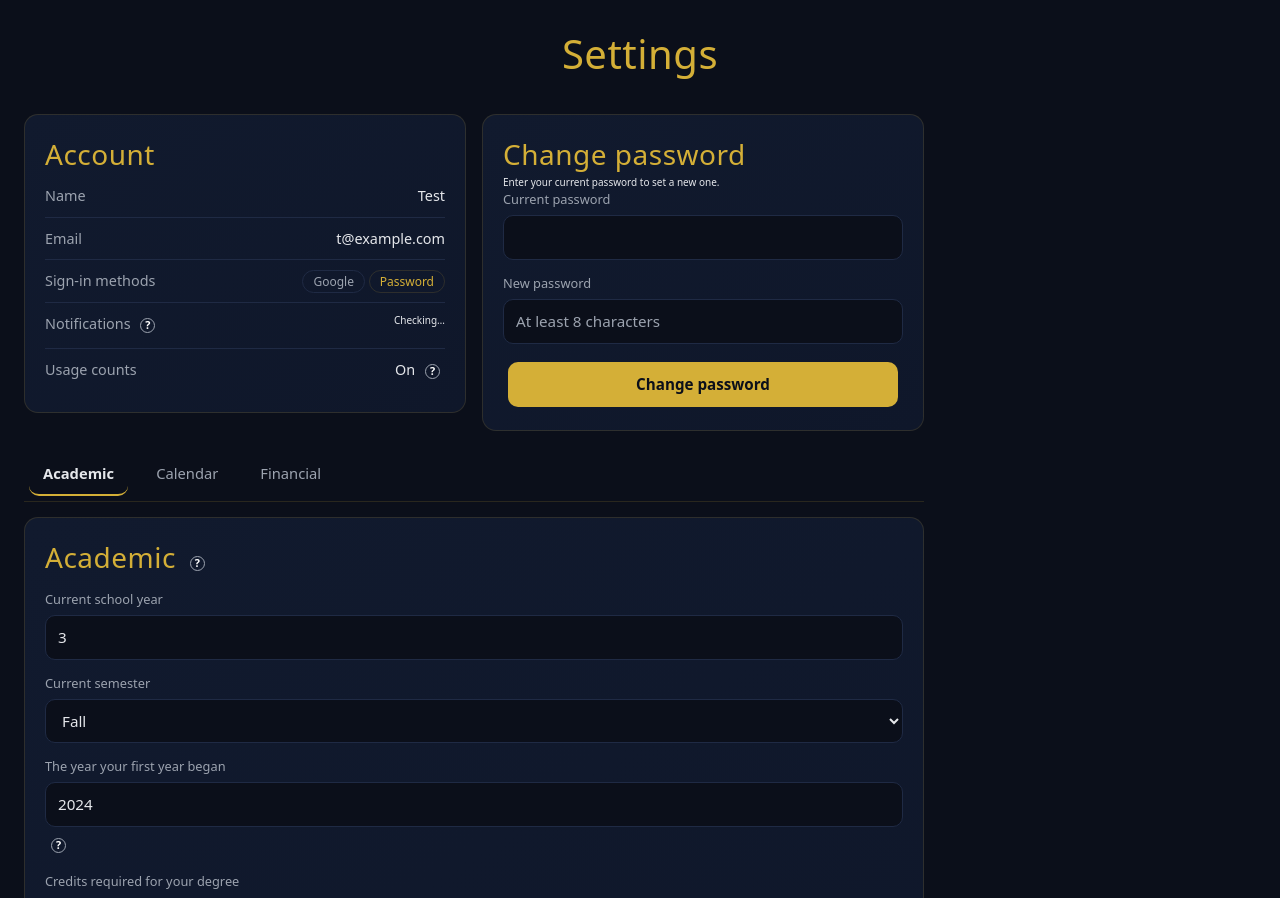
Test: where cash tips go › saves on change and says how many held tips it filed
This screenshot has width=1280, height=898.
Click the tab "Financial" at (291, 474), box [246,452,335,496]
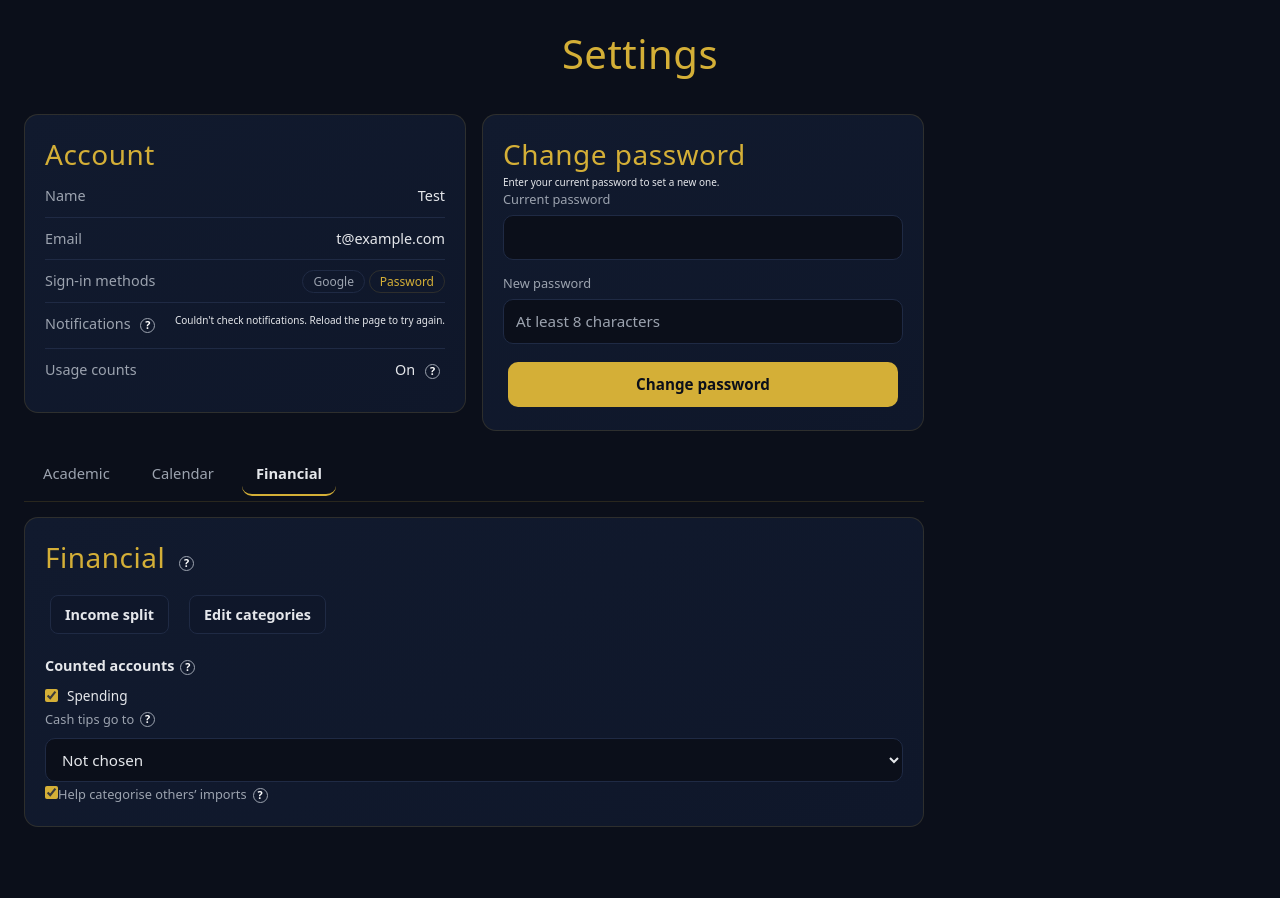
Select "Spending" in the dropdown labelled "Cash tips go to" at (474, 760), box [45,738,903,782]
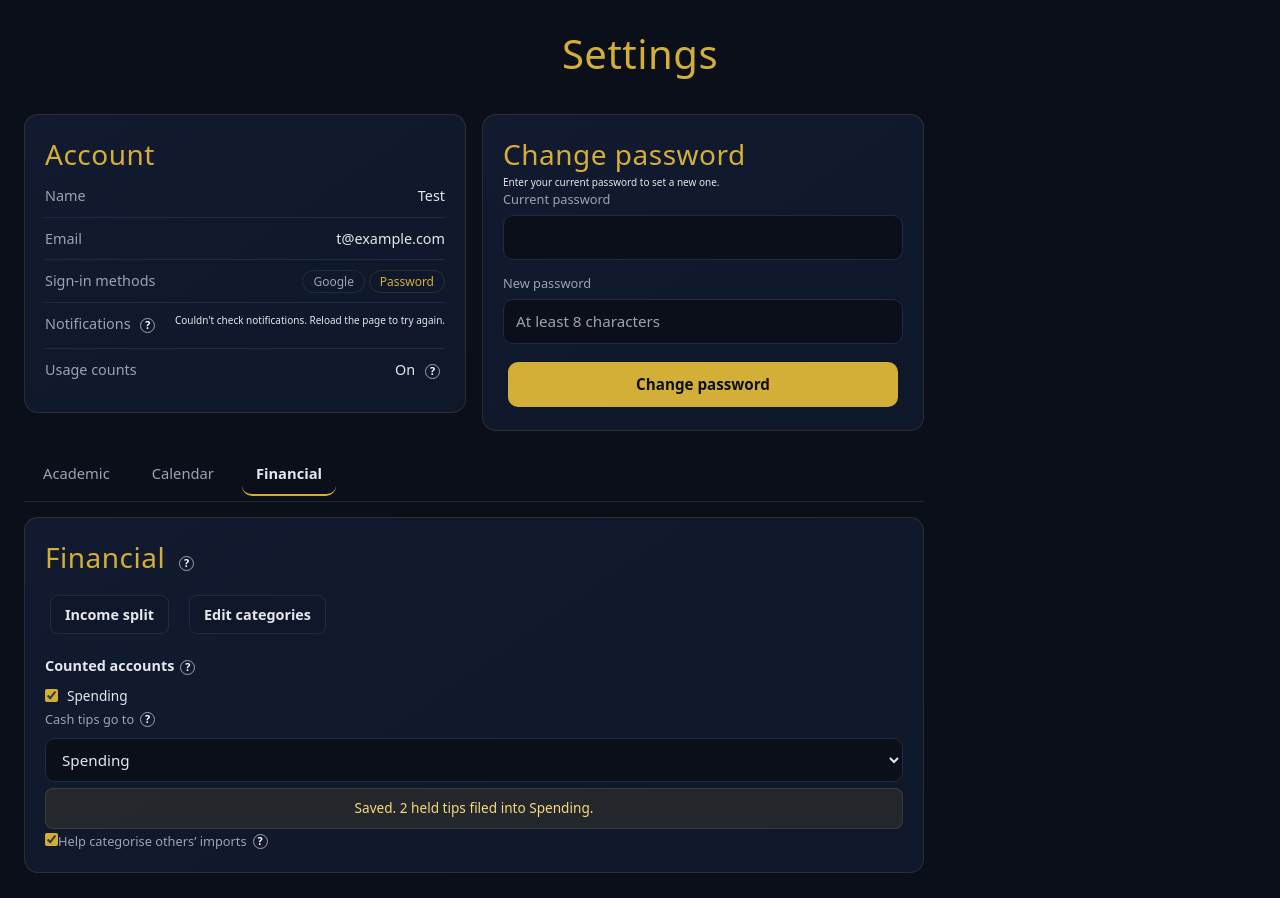
Now the text "Saved. 2 held tips filed into Spending." is shown, box [45,788,903,829]
